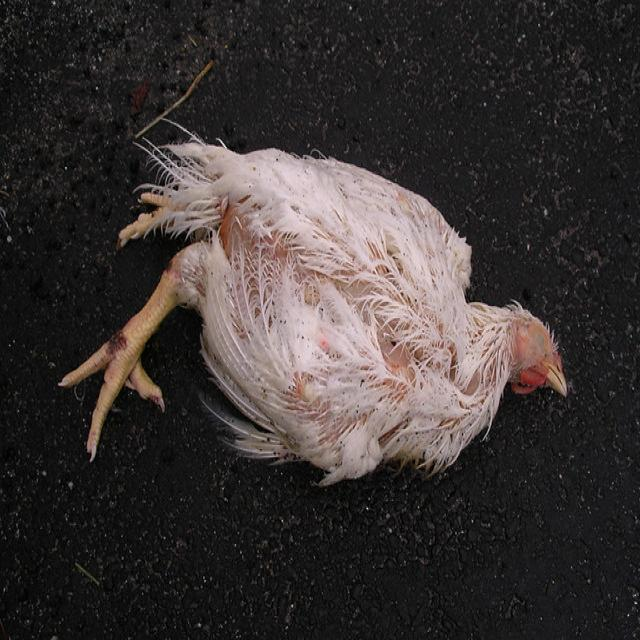dead: (64, 122, 574, 496)
